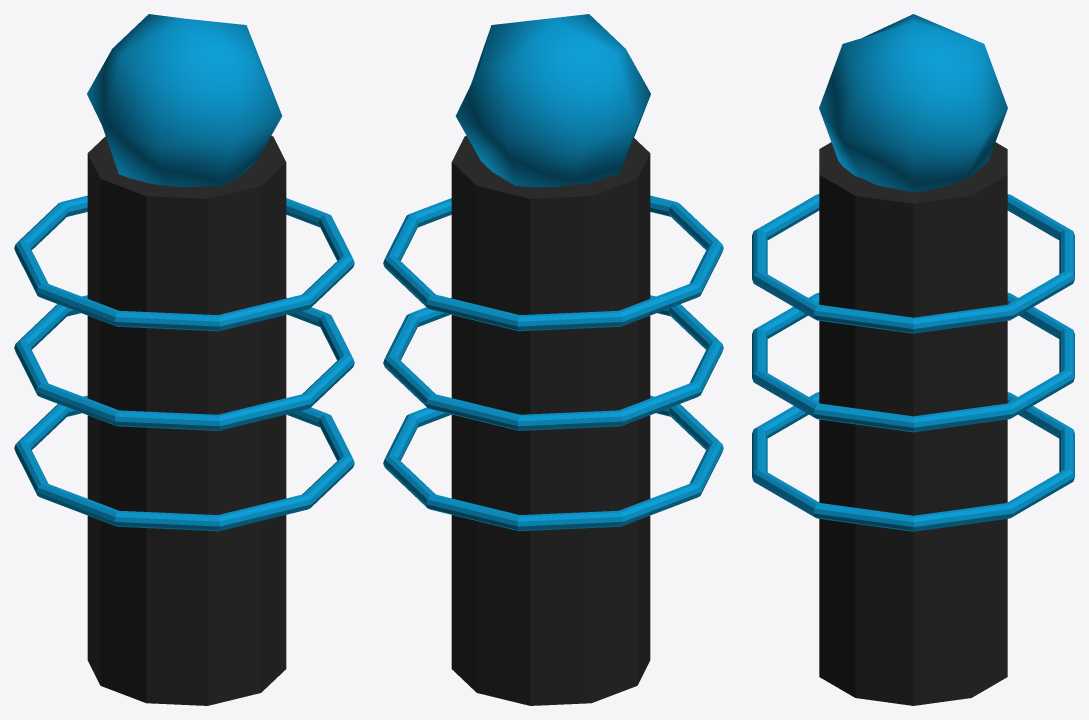
Rendered from BeginningNode.fbx.
3 views of the same model, side by side, from view 1: azimuth 30°, elevation 25°; view 2: azimuth 150°, elevation 25°; view 3: azimuth 270°, elevation 25° (orthographic).
Parts seen in each view (by area): view 1: BeginningNode; view 2: BeginningNode; view 3: BeginningNode.
Boxes of the visible parts, x1,y1,x2,y2 form: BeginningNode: [14, 14, 354, 705]; BeginningNode: [383, 14, 723, 705]; BeginningNode: [752, 14, 1074, 705].
Bounding box in the file's own units: 2.1 × 4.37 × 2.
